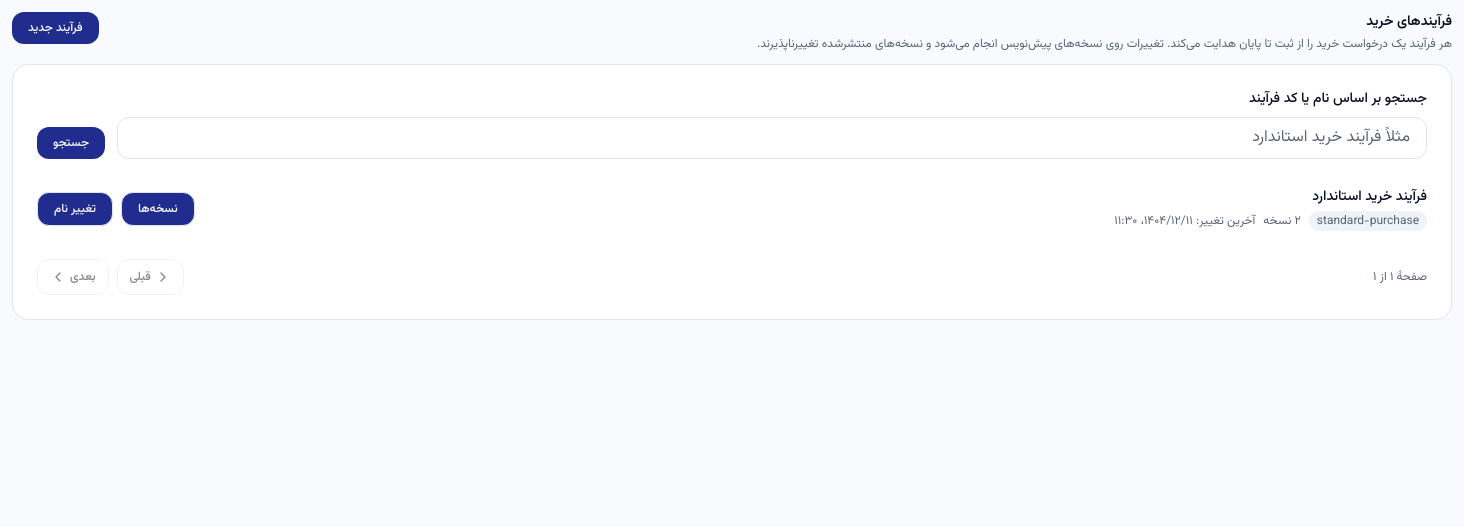
it: CommerceWorkflowSettings — version history › opens the version list and states each version with its status word AND hint
Click the button with test id "commerce-workflow-versions-standard-purchase" at (158, 209), box [121,192,195,226]
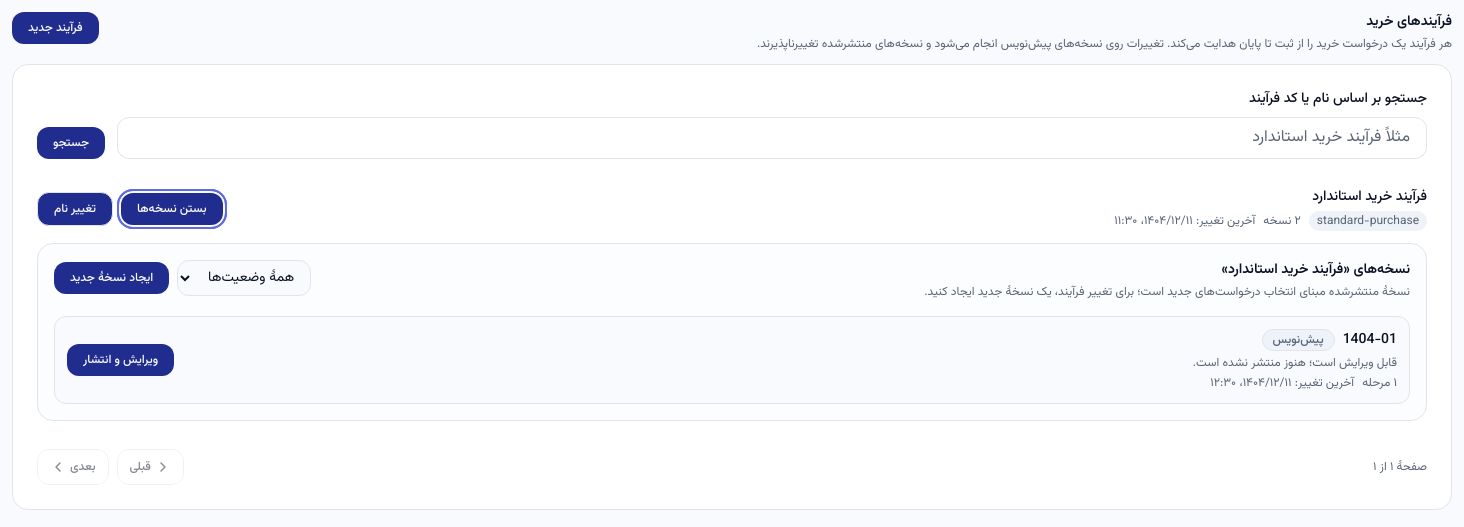
Now the element with test id "commerce-workflow-versions" is shown, box [54,260,1410,404]
Now the text "1404-01" is shown, box [1343,330,1397,350]
Now the text "قابل ویرایش است؛ هنوز منتشر نشده است." is shown, box [1193,355,1397,371]
